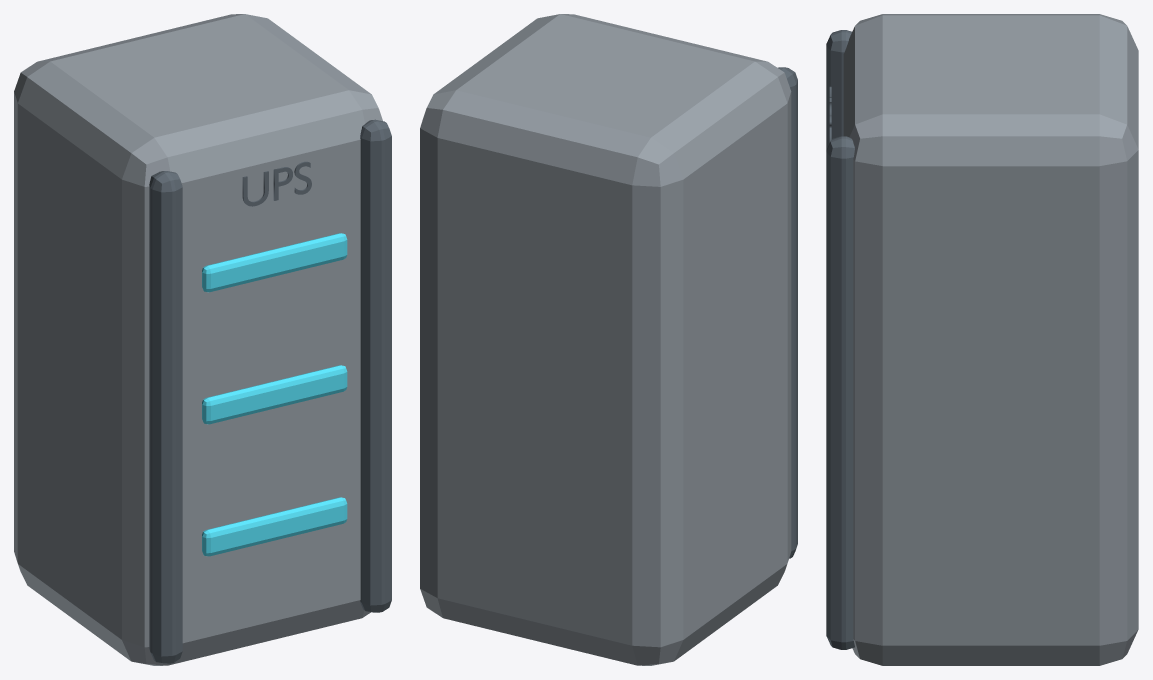
File: 2_Volatile.fbx
3 renders of one model, left to right at view 1: azimuth 30°, elevation 25°; view 2: azimuth 150°, elevation 25°; view 3: azimuth 270°, elevation 25°, orthographic. The views are drawn at different scales.
Visible parts, largest first — view 1: Body; view 2: Body; view 3: Body.
Boxes of the visible parts, x1,y1,x2,y2 form: Body: (14, 14, 391, 665); Body: (420, 14, 797, 665); Body: (826, 14, 1138, 665).
Bounding box in the file's own units: 0.72 × 1.4 × 0.72.
